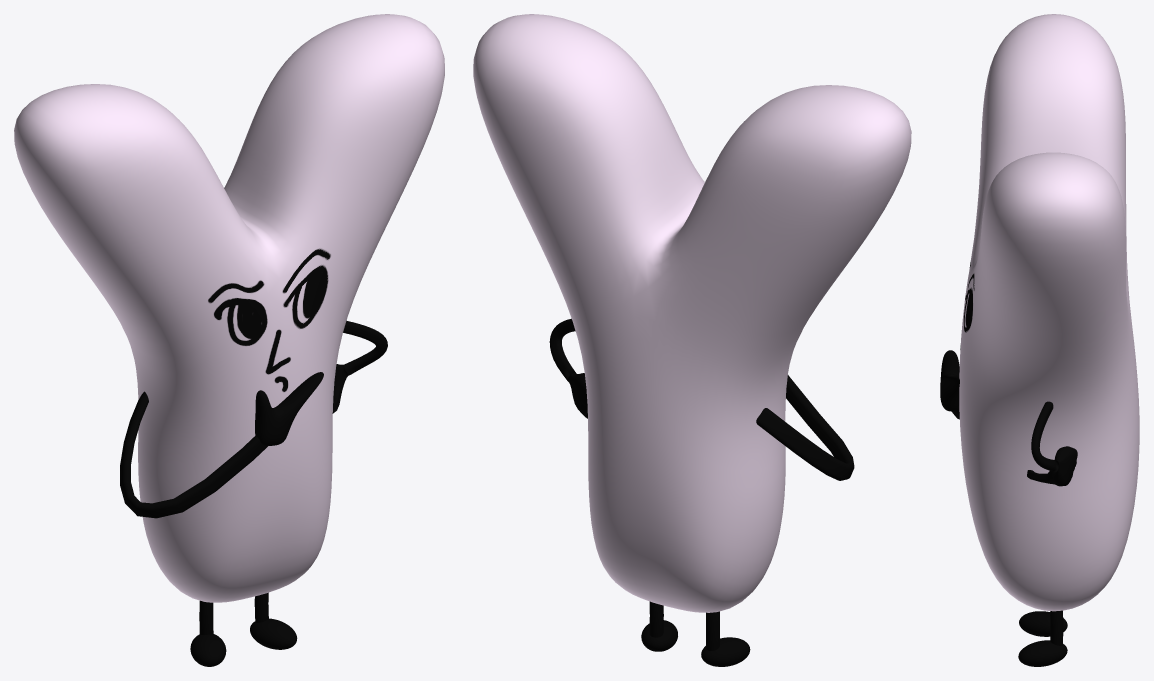
Rendered from ykun.fbx.
3 renders of one model, left to right at view 1: azimuth 30°, elevation 25°; view 2: azimuth 150°, elevation 25°; view 3: azimuth 270°, elevation 25°, orthographic. The views are drawn at different scales.
Visible parts, largest first — view 1: Cube, ベジエカーブ, 立方体, ベジエカーブ.002, Sphere.001, Sphere.003; view 2: Cube, ベジエカーブ, ベジエカーブ.002, Sphere.003, Sphere.001; view 3: Cube, ベジエカーブ.002, 立方体, Sphere.001, Sphere.003, Cylinder.001.
Boxes of the visible parts, x1=… form: Cube: x1=14, y1=14, x2=444, y2=602; ベジエカーブ: x1=120, y1=391, x2=267, y2=518; 立方体: x1=255, y1=372, x2=323, y2=445; ベジエカーブ.002: x1=332, y1=320, x2=387, y2=413; Sphere.001: x1=250, y1=618, x2=297, y2=649; Sphere.003: x1=190, y1=634, x2=226, y2=666; Cube: x1=473, y1=14, x2=911, y2=612; ベジエカーブ: x1=756, y1=375, x2=854, y2=480; ベジエカーブ.002: x1=549, y1=318, x2=587, y2=418; Sphere.003: x1=701, y1=637, x2=750, y2=666; Sphere.001: x1=641, y1=620, x2=677, y2=651; Cube: x1=959, y1=14, x2=1139, y2=611; ベジエカーブ.002: x1=1027, y1=401, x2=1077, y2=486; 立方体: x1=940, y1=350, x2=959, y2=411; Sphere.001: x1=1018, y1=640, x2=1067, y2=666; Sphere.003: x1=1019, y1=611, x2=1067, y2=636; Cylinder.001: x1=1050, y1=610, x2=1063, y2=645.
Bounding box in the file's own units: 11.09 × 15.29 × 4.99.
